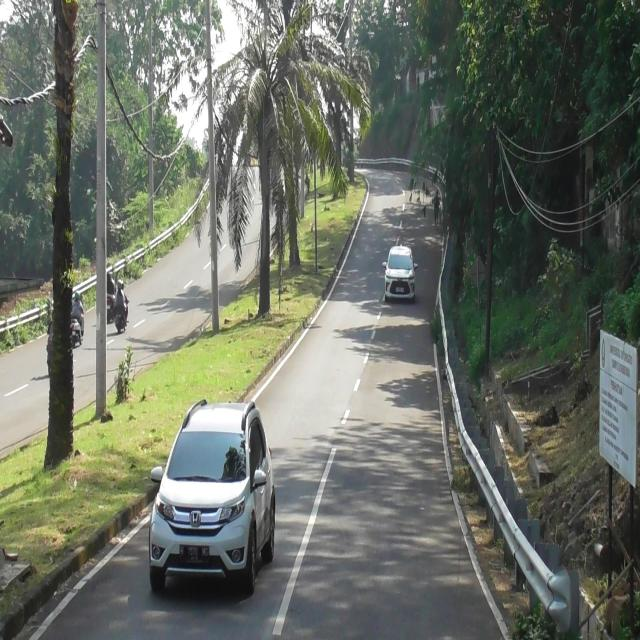motorcycle: (70, 317, 85, 346), (116, 306, 129, 333), (105, 295, 116, 322)
person: (72, 290, 84, 332), (116, 280, 126, 309), (106, 273, 116, 298), (121, 281, 129, 307)
rider_region: (116, 269, 130, 337), (104, 267, 116, 328), (71, 292, 83, 340)
